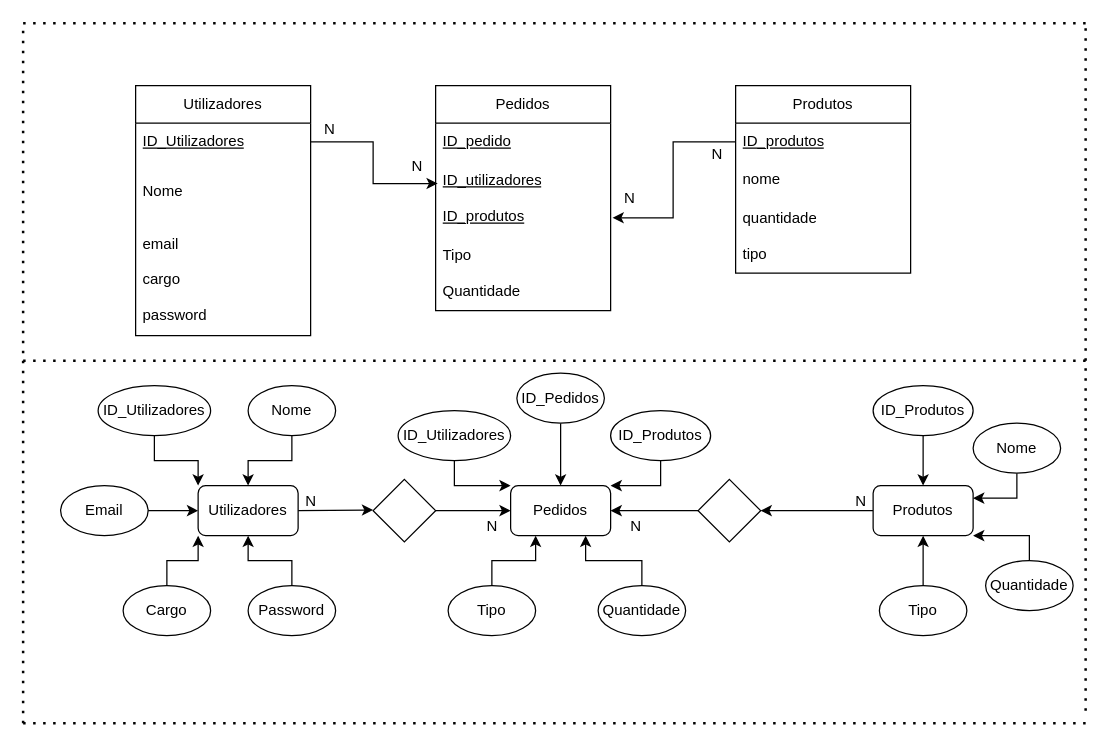
The diagram is 1109 pixels wide and 746 high, and some of its shapes have lost their labels. The shapes that lost their labels are listed below. From the top down, each one's box as (x1, y1, x2, y2) in pixels, then its label:
(372, 478, 436, 542): Fazem
(697, 478, 761, 542): Contem
